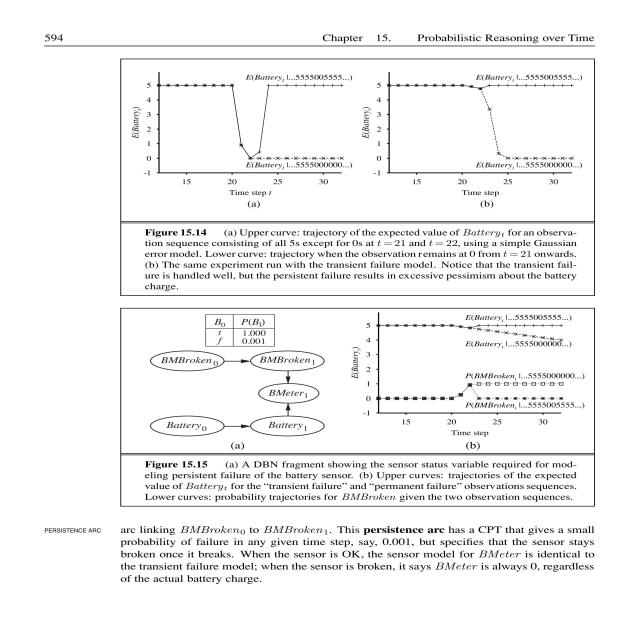diagram: (125, 57, 594, 296), (119, 308, 586, 504)
